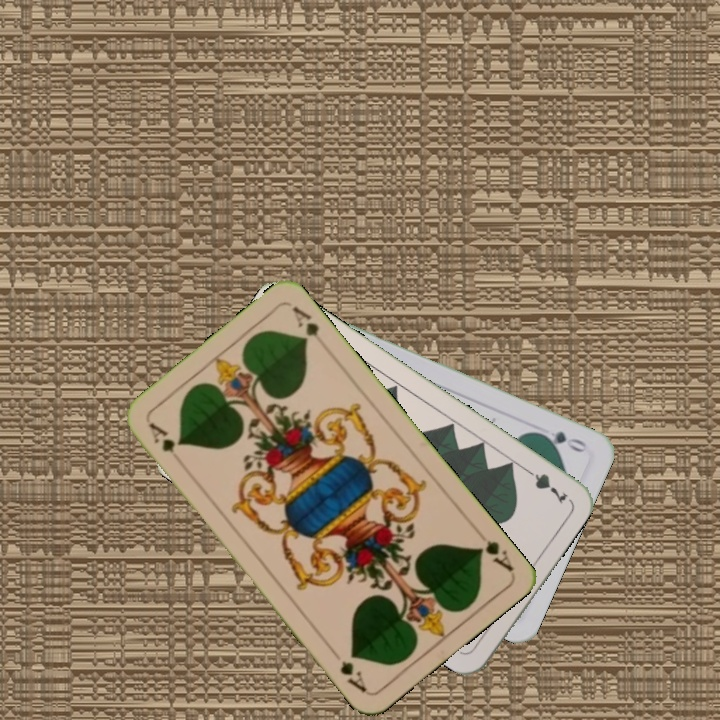G7: (518, 463, 571, 507)
GA: (472, 536, 516, 574), (144, 418, 178, 456)
GO: (532, 427, 589, 455)
